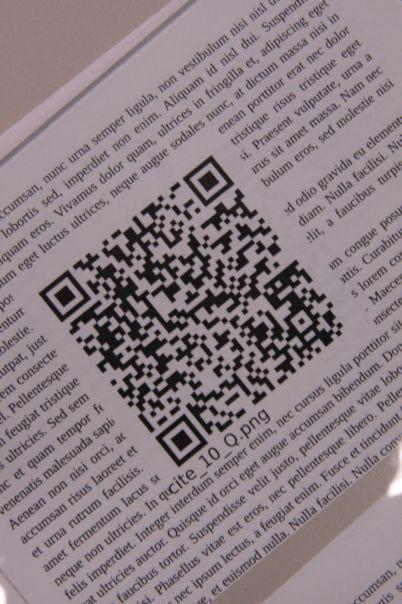qr_code: (39, 155, 347, 468)
